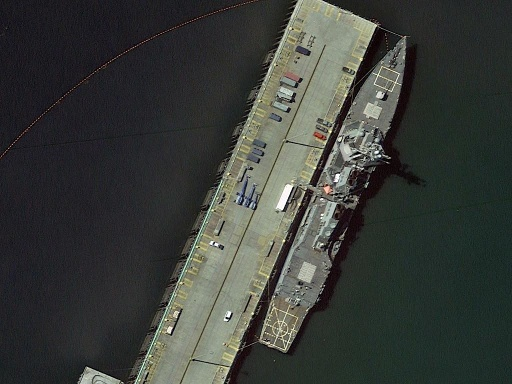ship: (252, 28, 423, 359)
